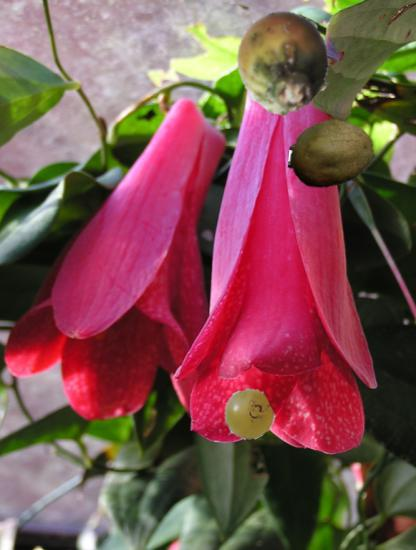Cactus: (234, 12, 334, 112)
Grape: (223, 389, 274, 440)
Papaya: (289, 112, 374, 197)
